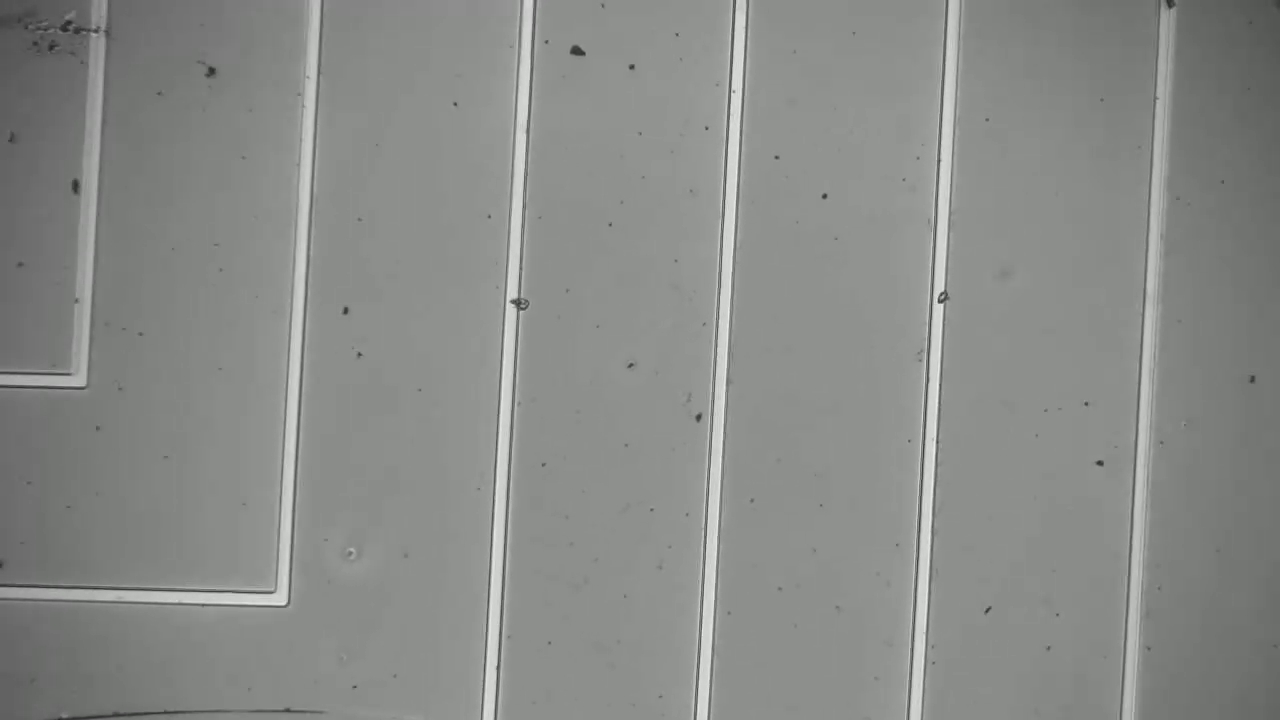stains_enbedded: (931, 285, 954, 311)
